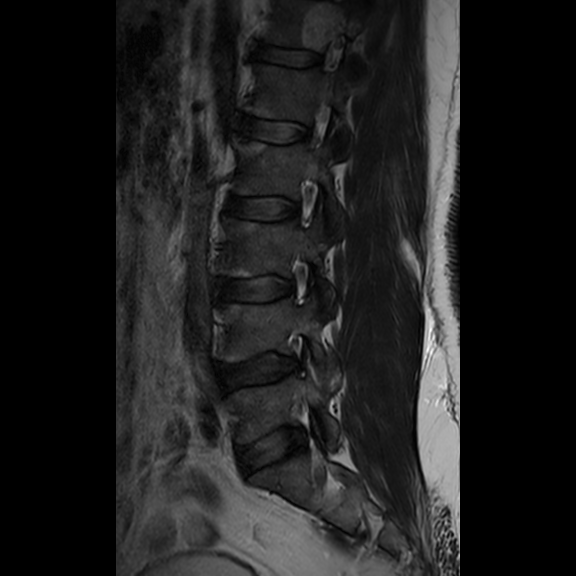RFS0: (284, 167, 323, 238), (279, 246, 317, 316)
RFS2: (270, 324, 317, 391)
